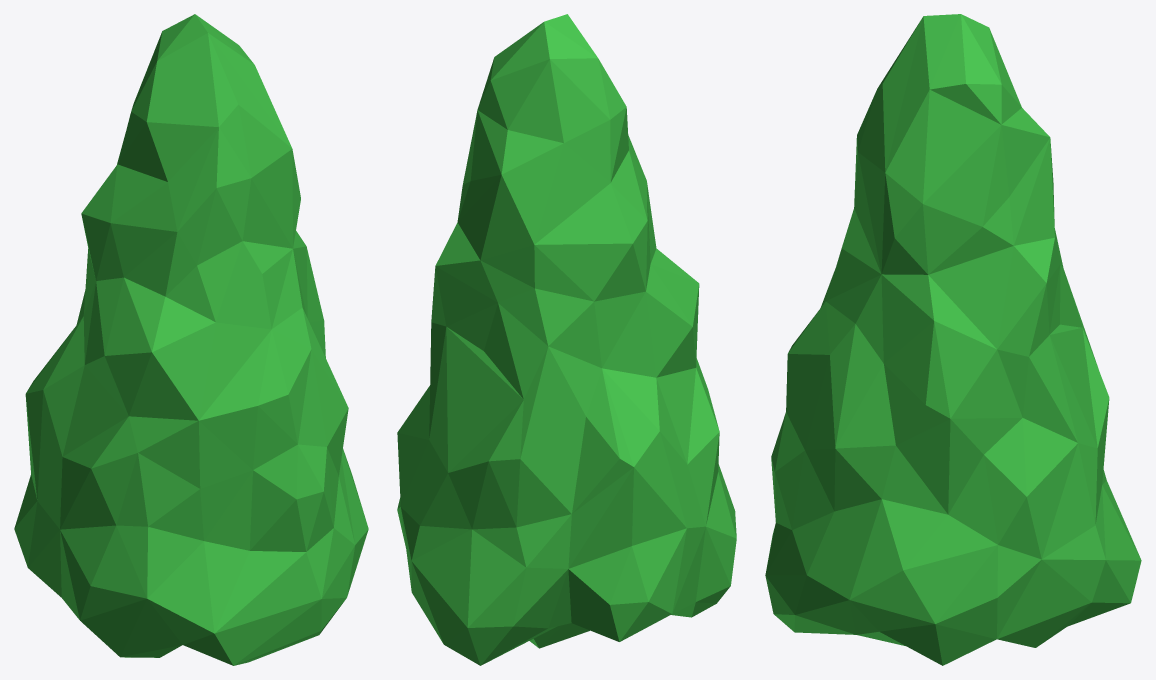
File: greenTop.glb
3 renders of one model, left to right at view 1: azimuth 30°, elevation 25°; view 2: azimuth 150°, elevation 25°; view 3: azimuth 270°, elevation 25°, orthographic. The views are drawn at different scales.
Visible parts, largest first — view 1: topGreen; view 2: topGreen; view 3: topGreen.
Boxes of the visible parts, x1=… form: topGreen: x1=14, y1=14, x2=368, y2=665; topGreen: x1=397, y1=14, x2=736, y2=665; topGreen: x1=765, y1=14, x2=1141, y2=665.
Size of the model in its own units: 7.99 by 15.94 by 8.65.
